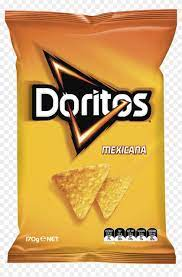Doritos: (5, 9, 178, 267)
